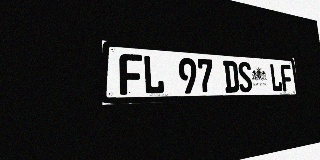7: (196, 59, 214, 93)
9: (178, 57, 198, 94)
D: (223, 60, 239, 93)
F: (119, 53, 143, 95), (280, 64, 293, 91)
L: (143, 55, 165, 94), (269, 63, 283, 92)
S: (237, 61, 253, 92)
